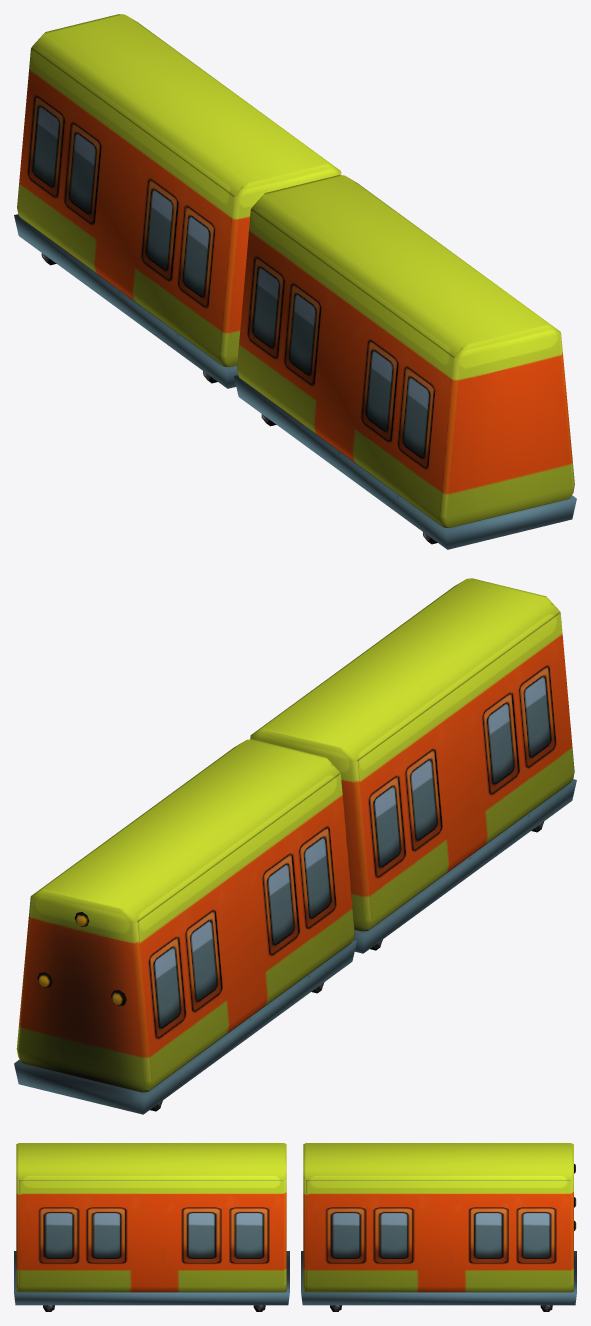
File: train_01.fbx
3 renders of one model, top to bottom at view 1: azimuth 30°, elevation 25°; view 2: azimuth 150°, elevation 25°; view 3: azimuth 270°, elevation 25°, orthographic. The views are drawn at different scales.
Parts seen in each view (by area): view 1: train_01; view 2: train_01; view 3: train_01.
Boxes of the visible parts, x1,y1,x2,y2 form: train_01: (14, 14, 576, 549); train_01: (14, 578, 576, 1114); train_01: (14, 1143, 576, 1311).
Bounding box in the file's own units: 425 × 638 × 2353.
